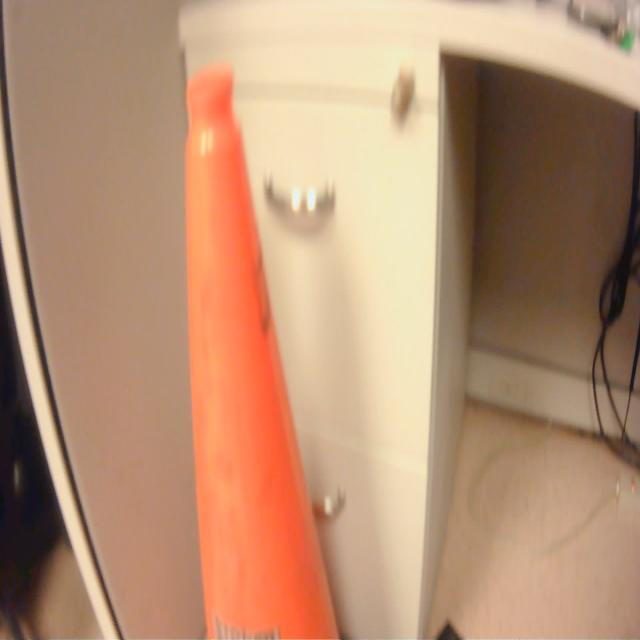traffic cone: (176, 59, 353, 640)
